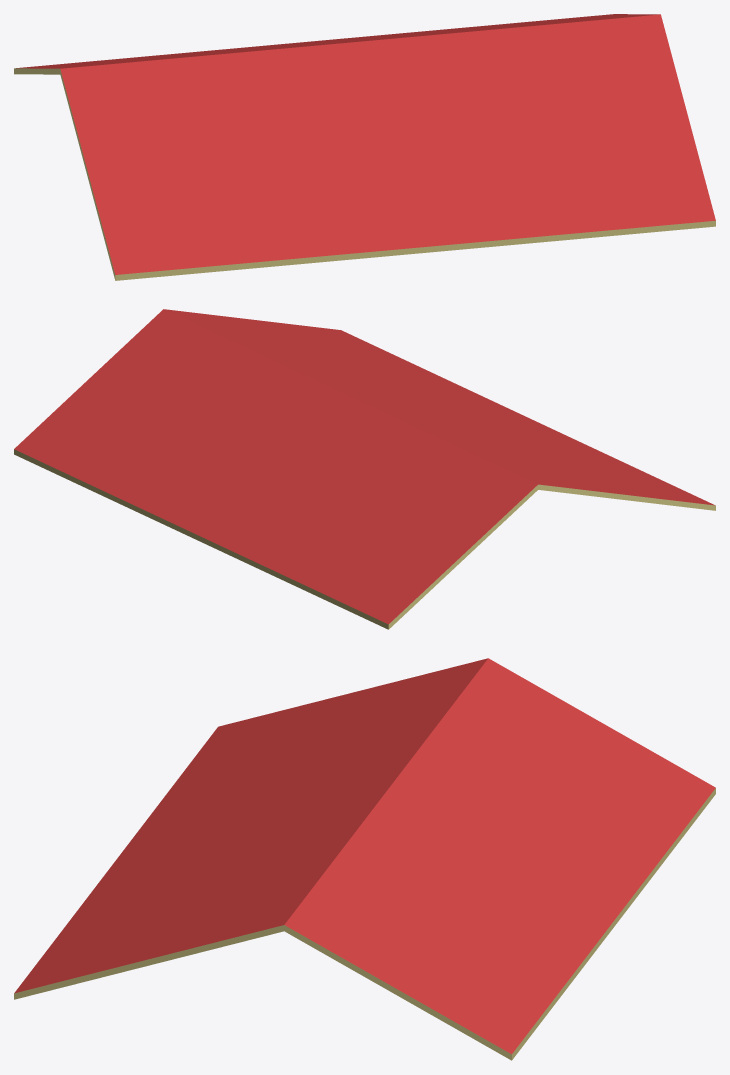
3 views of the same model, one above another, from view 1: azimuth 30°, elevation 25°; view 2: azimuth 150°, elevation 25°; view 3: azimuth 270°, elevation 25° (orthographic). The views are drawn at different scales.
Size of the model in its own units: 11.3 by 10.02 by 1.76.
